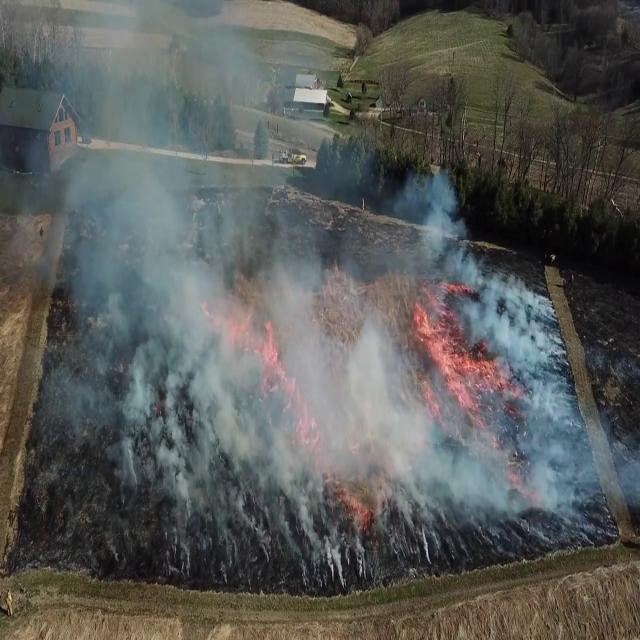Fire: (398, 262, 492, 412)
Smoke: (19, 0, 310, 570), (304, 297, 614, 528), (396, 142, 494, 327)
